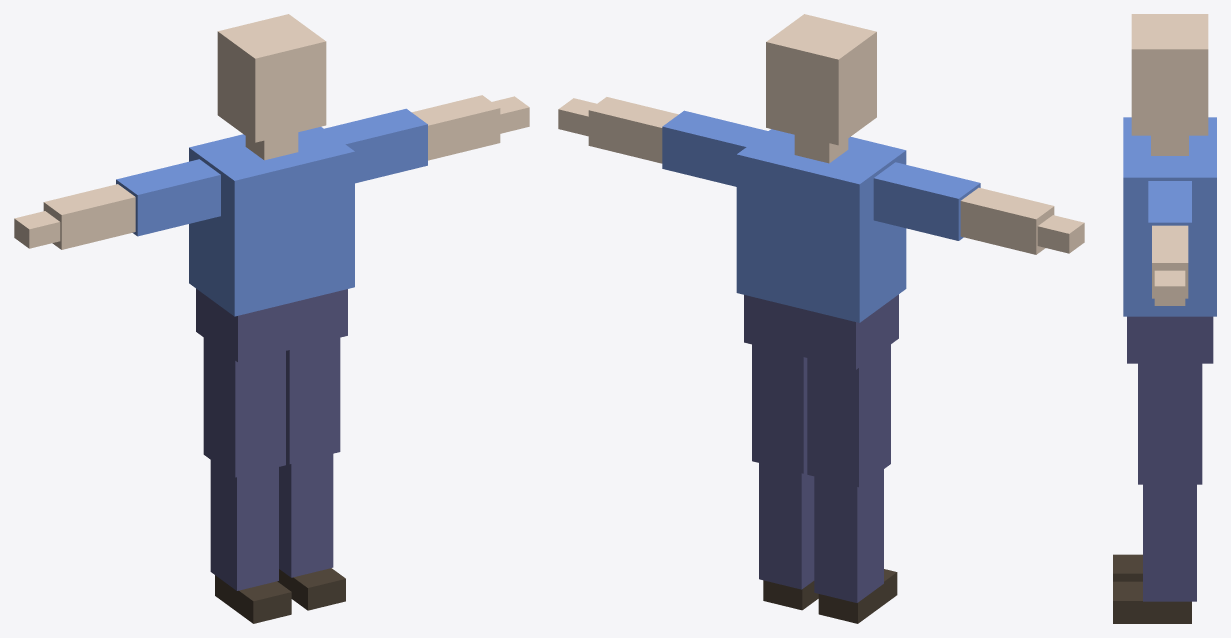
Rendered from character_lowpoly.glb.
The picture shows the model from 3 angles, left to right: view 1: azimuth 30°, elevation 25°; view 2: azimuth 150°, elevation 25°; view 3: azimuth 270°, elevation 25°; orthographic projection. The views are drawn at different scales.
Visible parts, largest first — view 1: LowPolyCharacter; view 2: LowPolyCharacter; view 3: LowPolyCharacter.
Part boxes in pixels (x1=…): LowPolyCharacter: x1=14, y1=14, x2=529, y2=623; LowPolyCharacter: x1=558, y1=14, x2=1084, y2=623; LowPolyCharacter: x1=1113, y1=14, x2=1216, y2=623.
Bounding box in the file's own units: 1.62 × 1.72 × 0.284.
